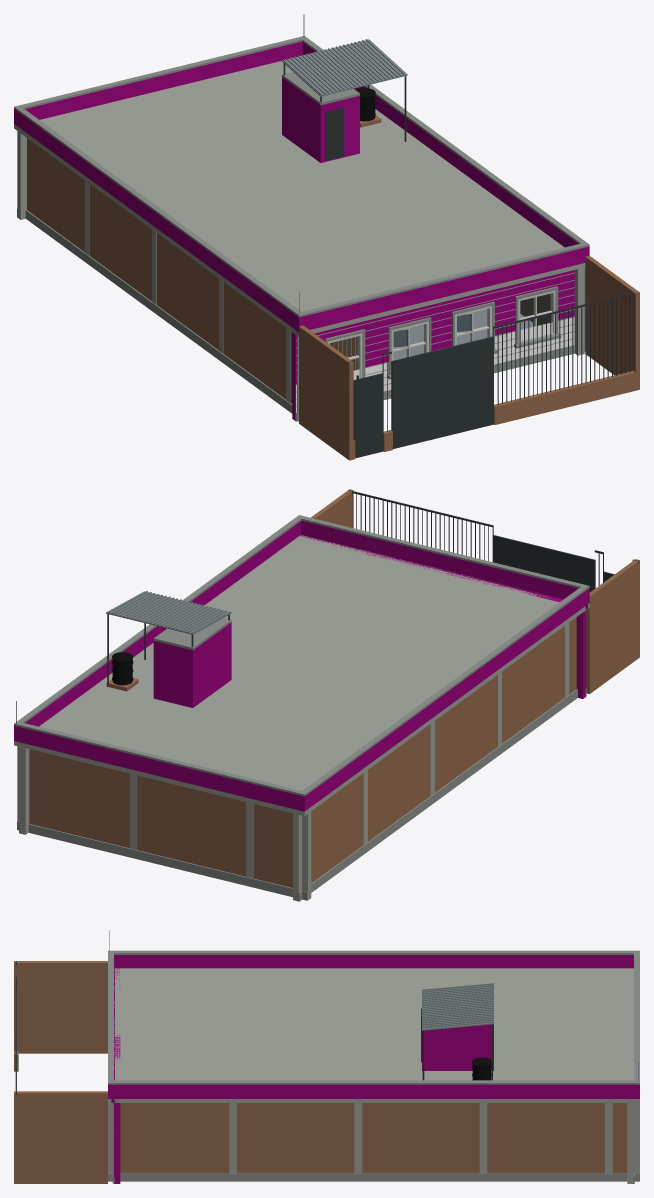
The model's file is house_seed2989_residential.glb.
3 renders of one model, top to bottom at view 1: azimuth 30°, elevation 25°; view 2: azimuth 150°, elevation 25°; view 3: azimuth 270°, elevation 25°, orthographic. The views are drawn at different scales.
Visible parts, largest first — view 1: roof_slab_11, wall_7, parapet_0, garage_door_5, parapet_cap_2, wall_0, wall_11, fence_5, rooftop_room_0, plinth_2, canopy_sheet_8, corrugation_8 (+9 smaller); view 2: roof_slab_11, wall_7, parapet_0, parapet_cap_2, wall_11, plinth_2, rooftop_room_0, garage_door_5, fence_5, corrugation_8, canopy_sheet_8, wall_0 (+1 smaller); view 3: roof_slab_11, wall_7, parapet_0, parapet_cap_2, plinth_2, wall_11, corrugation_8, rooftop_room_0, canopy_sheet_8, wall_0.
Boxes of the visible parts, x1,y1,x2,y2 form: roof_slab_11: (14,61,585,336); wall_7: (27,138,639,460); parapet_0: (14,41,589,331); garage_door_5: (391,336,493,448); parapet_cap_2: (14,36,589,317); wall_0: (292,270,574,420); wall_11: (17,62,583,402); fence_5: (347,291,638,434); rooftop_room_0: (282,77,359,162); plinth_2: (17,209,584,421); canopy_sheet_8: (282,39,407,96); corrugation_8: (282,39,405,95); roof_slab_11: (14,535,589,816); wall_7: (29,489,639,887); parapet_0: (14,520,589,811); parapet_cap_2: (14,515,589,796); wall_11: (17,537,569,901); plinth_2: (17,688,586,901); rooftop_room_0: (153,622,231,707); garage_door_5: (493,535,595,592); fence_5: (348,490,638,585); corrugation_8: (108,591,230,633); canopy_sheet_8: (106,591,231,634); wall_0: (301,536,586,698); roof_slab_11: (108,968,639,1102); wall_7: (14,961,627,1183); parapet_0: (108,955,639,1098); parapet_cap_2: (108,950,639,1084); plinth_2: (108,1173,639,1183); wall_11: (108,968,639,1183); corrugation_8: (422,983,493,1028); rooftop_room_0: (422,1024,493,1070); canopy_sheet_8: (422,984,493,1030); wall_0: (114,968,120,1183).
Bounding box in the file's own units: 10 × 5.51 × 20.
